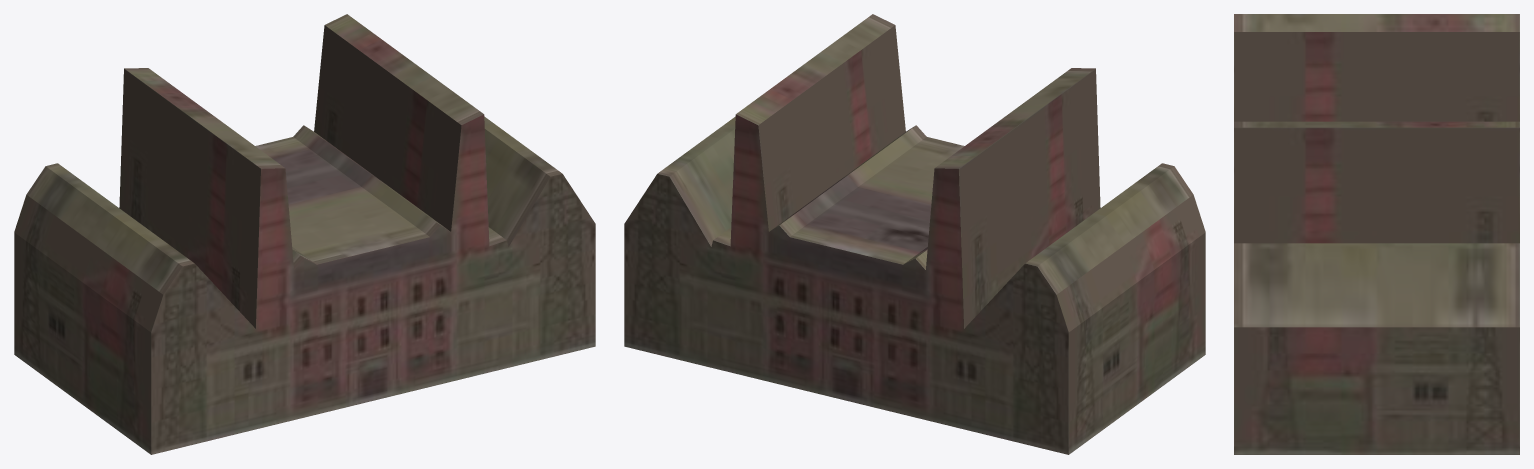
Rendered from bg_industrial_factory_2_lod1.glb.
The picture shows the model from 3 angles, left to right: view 1: azimuth 30°, elevation 25°; view 2: azimuth 150°, elevation 25°; view 3: azimuth 270°, elevation 25°; orthographic projection. The views are drawn at different scales.
Visible parts, largest first — view 1: body; view 2: body; view 3: body.
Part boxes in pixels (x1,y1,x2,y2): body: (14,14,595,454); body: (624,14,1205,454); body: (1234,14,1519,454).
Size of the model in its own units: 12 by 6.69 by 6.41.
1 material, 1 textured.
